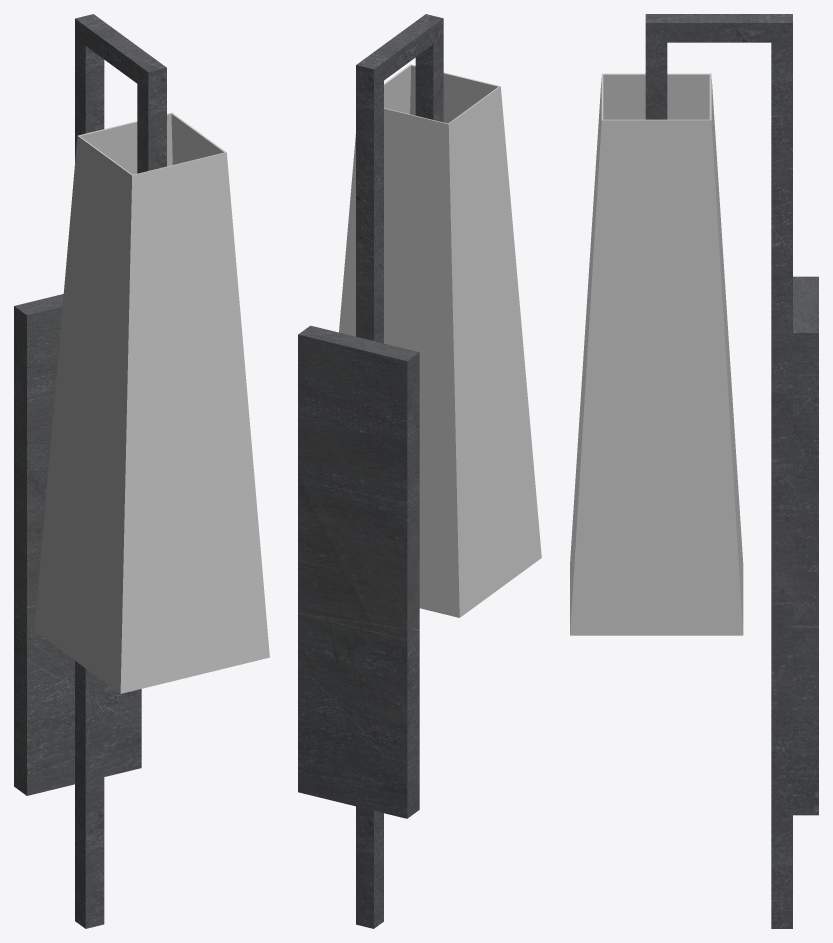
The model's file is Wall lamp.FBX.
3 renders of one model, left to right at view 1: azimuth 30°, elevation 25°; view 2: azimuth 150°, elevation 25°; view 3: azimuth 270°, elevation 25°, orthographic. The views are drawn at different scales.
Visible parts, largest first — view 1: wall lamp; view 2: wall lamp; view 3: wall lamp.
Part boxes in pixels (<box>): wall lamp: <box>14,14,269,928</box>; wall lamp: <box>298,14,541,928</box>; wall lamp: <box>570,14,818,928</box>.
Bounding box in the file's own units: 8.71 × 50.28 × 12.52.
Materials: 2 (1 with a texture image).
